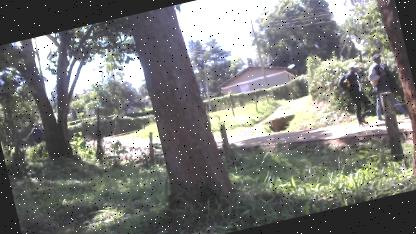person: (332, 58, 377, 130)
tree: (121, 0, 240, 216), (0, 19, 140, 178)
